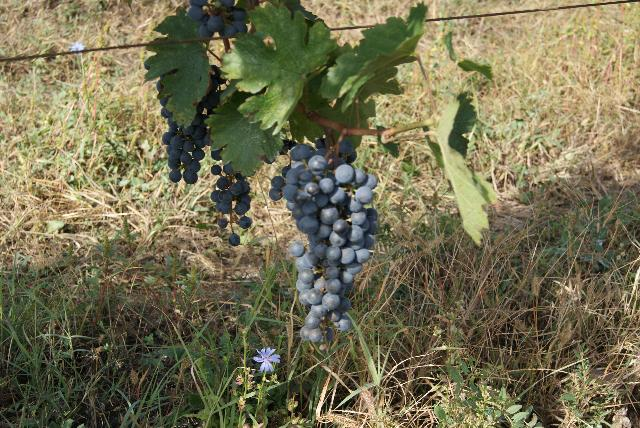grapes: (270, 154, 379, 350)
